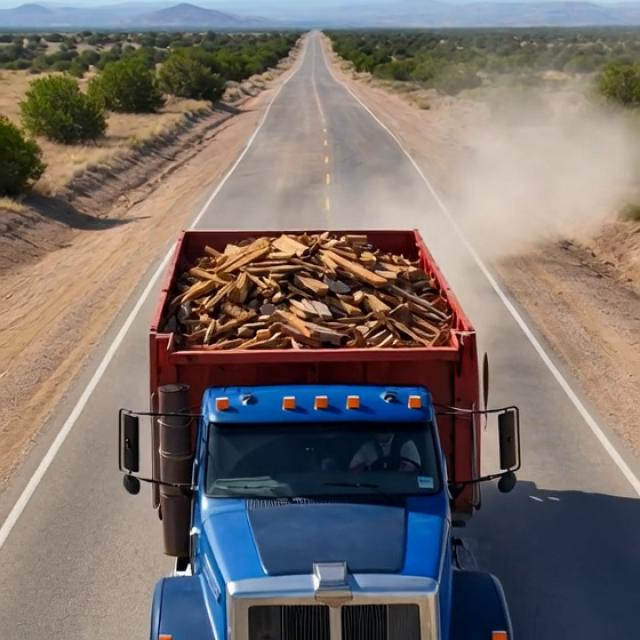Box: (149, 219, 486, 376)
Truck: (112, 176, 550, 635)
